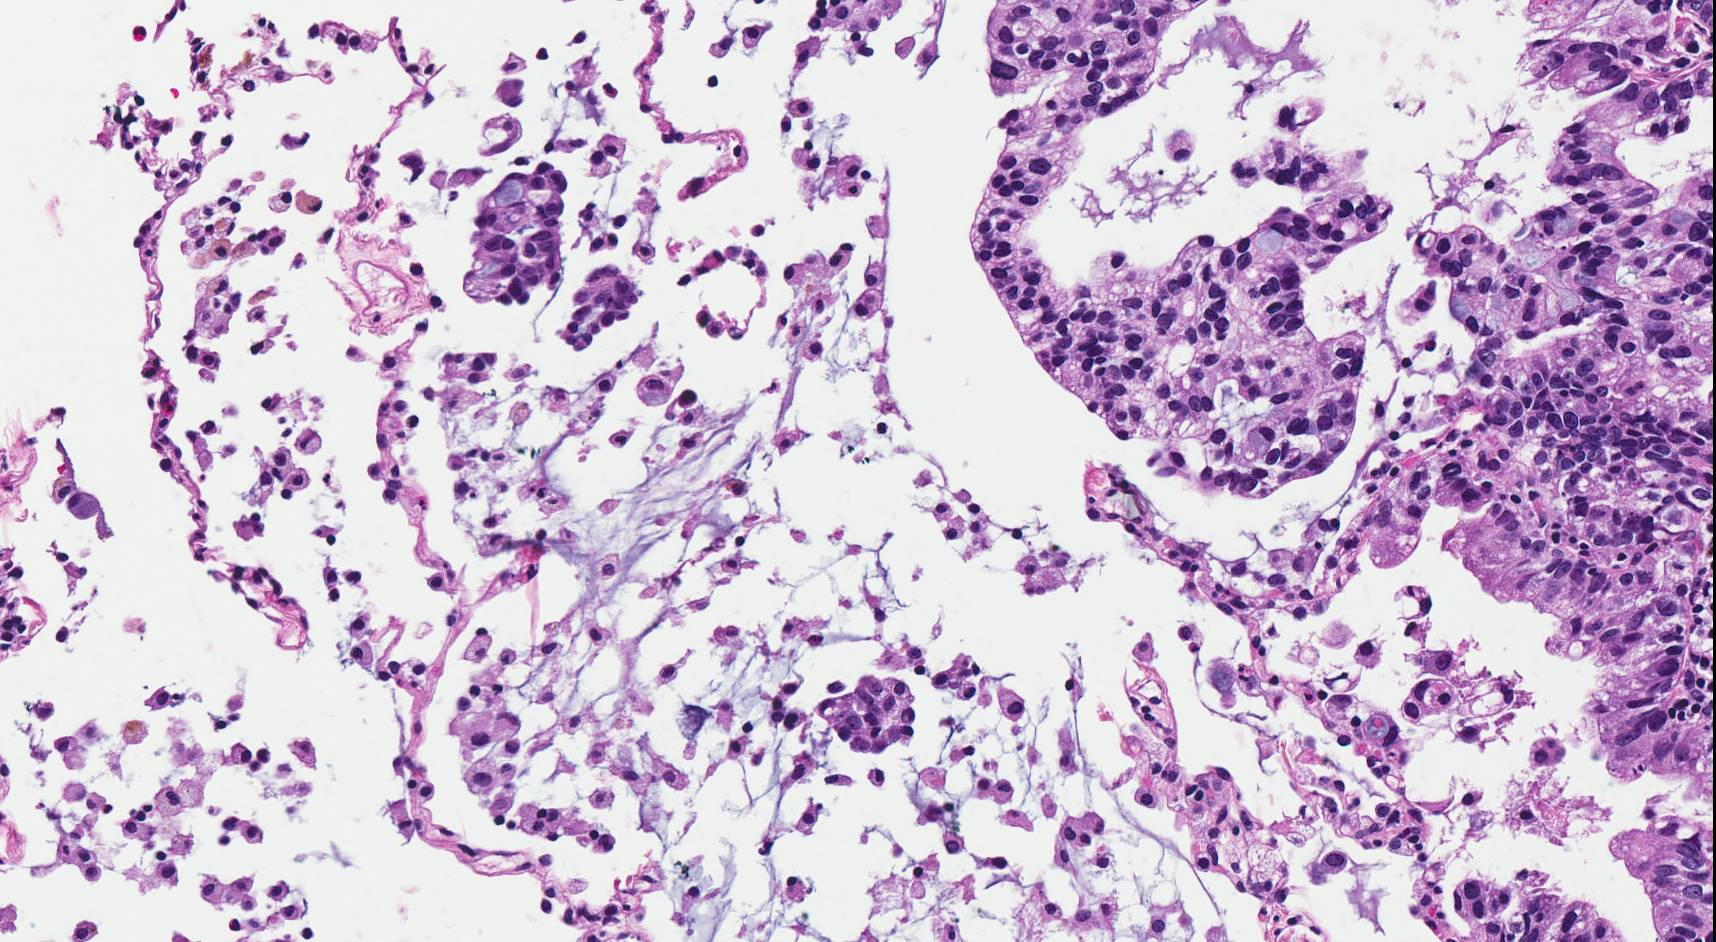stas: (464, 160, 567, 310), (814, 676, 917, 758), (560, 263, 642, 354)
